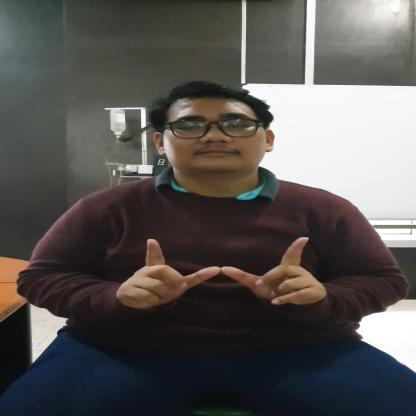W: (117, 236, 326, 309)
